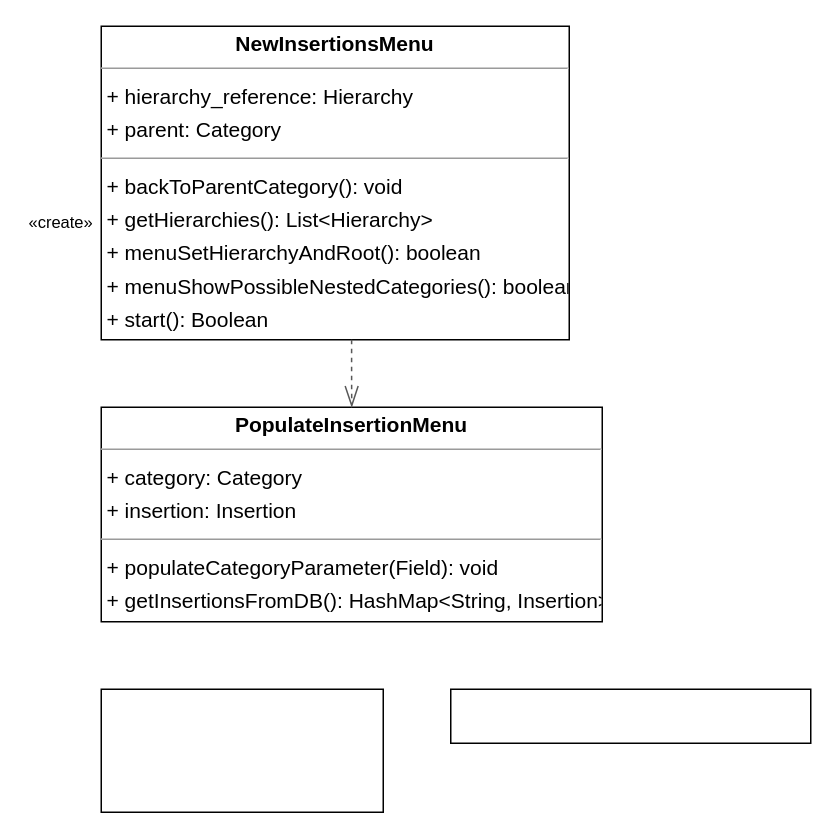
This 837x839 diagram has some shape labels left out. Here are the shapes that lost their labels. From the top down, the centre of each, then its label:
the point at 630,715: <<package>> package menu.insertions.offerts
the point at 241,750: RetireInsertionMenu + start(): Boolean + showMyInsertions(): void
